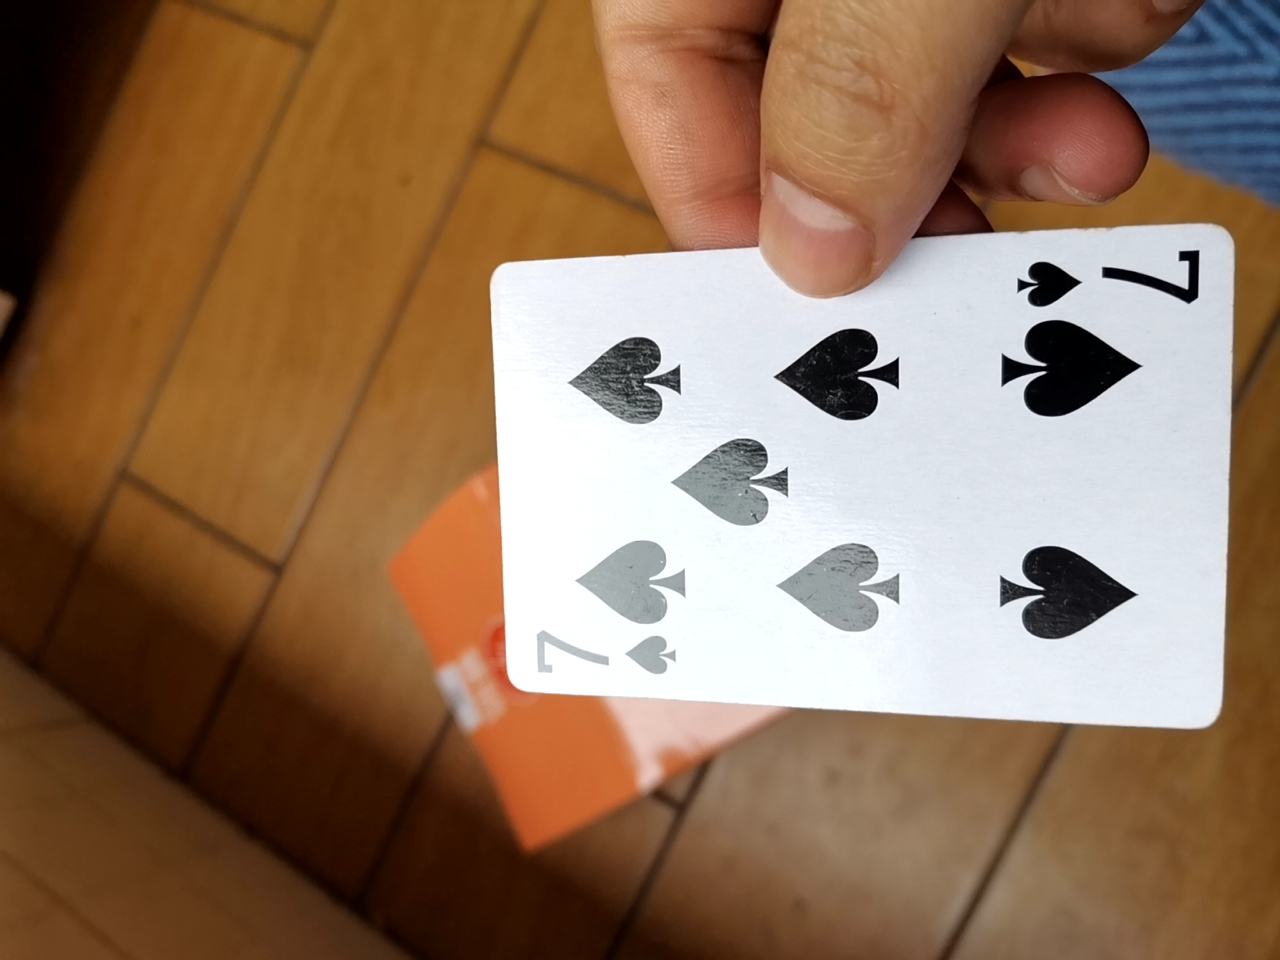ht 7: (467, 237, 1226, 733)
